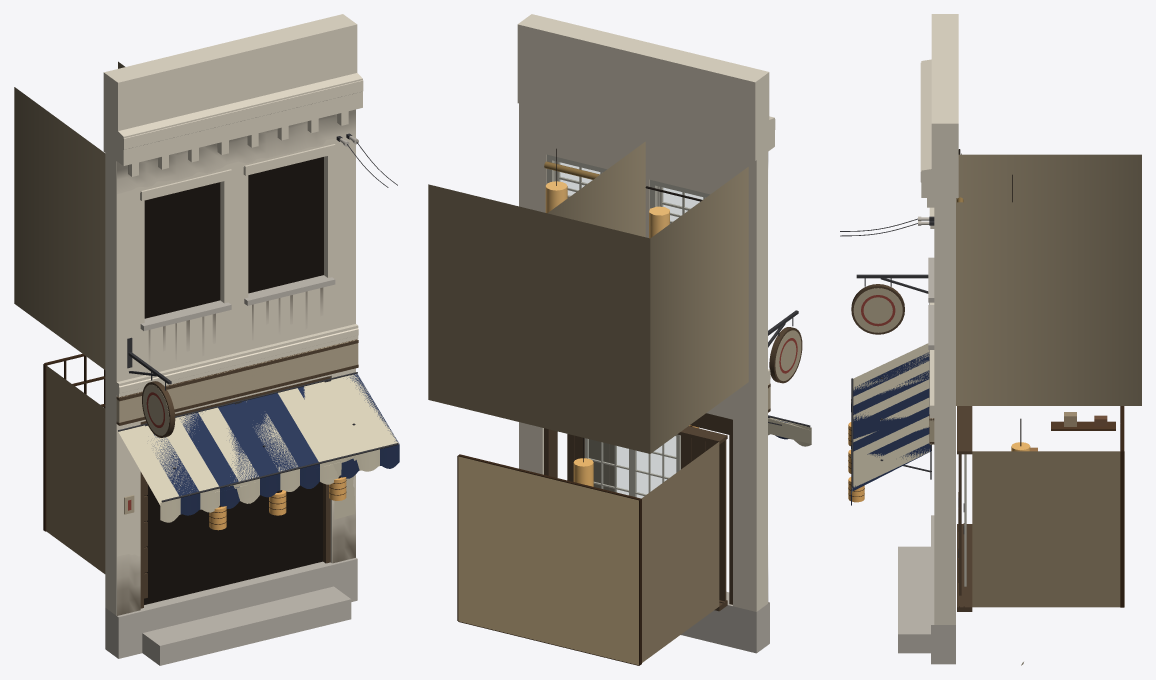
File: facade-a-1912.glb
3 renders of one model, left to right at view 1: azimuth 30°, elevation 25°; view 2: azimuth 150°, elevation 25°; view 3: azimuth 270°, elevation 25°, orthographic. The views are drawn at different scales.
Visible parts, largest first — view 1: FAC_A_LOD0_shell, FAC_A_LOD2_shell, FAC_A_LOD0_interior, FAC_A_LOD1_shell, FAC_A_LOD1_awning, FAC_A_LOD2_awning, FAC_A_LOD0_decals, FAC_A_LOD2_fascia, FAC_A_LOD0_awning, FAC_A_LOD0_shopfront, FAC_A_LOD0_fascia, FAC_A_LOD0_sign (+2 smaller); view 2: FAC_A_LOD0_interior, FAC_A_LOD0_shell, FAC_A_LOD1_shell, FAC_A_LOD0_shopfront, FAC_A_LOD1_shopfront, FAC_A_LOD0_windows, FAC_A_LOD0_sign, FAC_A_LOD2_awning, FAC_A_LOD1_interior; view 3: FAC_A_LOD0_interior, FAC_A_LOD0_shell, FAC_A_LOD1_awning, FAC_A_LOD2_awning, FAC_A_LOD0_sign, FAC_A_LOD0_shopfront, FAC_A_LOD2_shell, FAC_A_LOD1_shell, FAC_A_LOD1_sign, FAC_A_LOD0_awning, FAC_A_LOD2_sign.
Boxes of the visible parts, box(x1,y1,x2,y2) form: FAC_A_LOD0_shell: box(103, 14, 363, 665); FAC_A_LOD2_shell: box(104, 25, 362, 658); FAC_A_LOD0_interior: box(14, 61, 124, 573); FAC_A_LOD1_shell: box(103, 73, 363, 613); FAC_A_LOD1_awning: box(118, 373, 399, 518); FAC_A_LOD2_awning: box(119, 374, 398, 502); FAC_A_LOD0_decals: box(117, 109, 355, 615); FAC_A_LOD2_fascia: box(117, 339, 358, 422); FAC_A_LOD0_awning: box(118, 372, 399, 522); FAC_A_LOD0_shopfront: box(140, 376, 330, 608); FAC_A_LOD0_fascia: box(116, 339, 358, 425); FAC_A_LOD0_sign: box(127, 337, 175, 437); FAC_A_LOD0_interior: box(428, 141, 748, 665); FAC_A_LOD0_shell: box(517, 14, 775, 653); FAC_A_LOD1_shell: box(517, 25, 775, 207); FAC_A_LOD0_shopfront: box(544, 413, 732, 611); FAC_A_LOD1_shopfront: box(567, 434, 724, 599); FAC_A_LOD0_windows: box(547, 154, 709, 223); FAC_A_LOD0_sign: box(768, 310, 802, 383); FAC_A_LOD2_awning: box(768, 417, 811, 443); FAC_A_LOD1_interior: box(546, 182, 669, 238); FAC_A_LOD0_interior: box(956, 149, 1141, 607); FAC_A_LOD0_shell: box(898, 14, 958, 664); FAC_A_LOD1_awning: box(851, 343, 931, 503); FAC_A_LOD2_awning: box(852, 344, 929, 491); FAC_A_LOD0_sign: box(851, 274, 928, 334); FAC_A_LOD0_shopfront: box(957, 406, 972, 611); FAC_A_LOD2_shell: box(921, 59, 955, 664); FAC_A_LOD1_shell: box(920, 63, 958, 349); FAC_A_LOD1_sign: box(851, 286, 904, 334); FAC_A_LOD0_awning: box(851, 356, 931, 505); FAC_A_LOD2_sign: box(852, 286, 904, 333).
Bounding box in the file's own units: 3 × 6.93 × 3.49.
